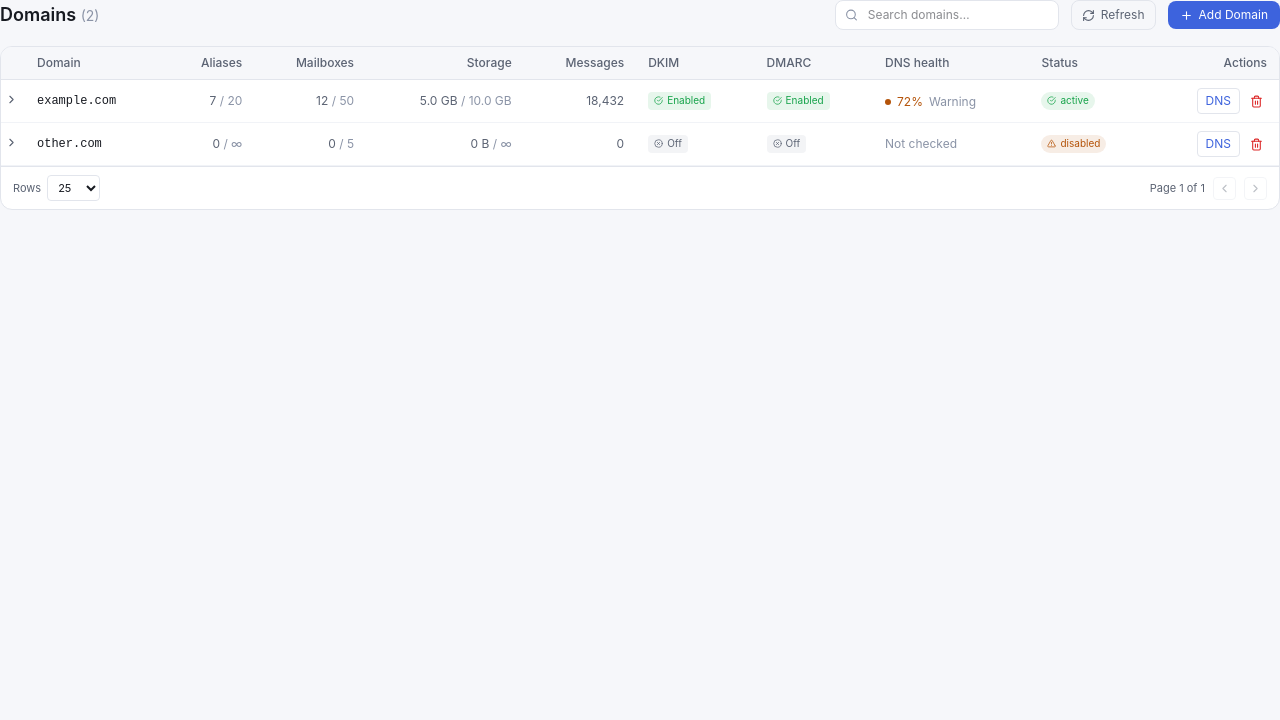
DNS records modal › shows the MTA-STS HTTPS policy row as unverified when no policy document was fetched
The image size is (1280, 720).
Expected: the text "example.com" is shown, [25,80,165,122]
What coordinates should you click on to do the following:
click the button "DNS" in the row of "example.com"
I would click on:
 (1218, 101)
Its box is [1197,88,1240,114].
(page scrolled)
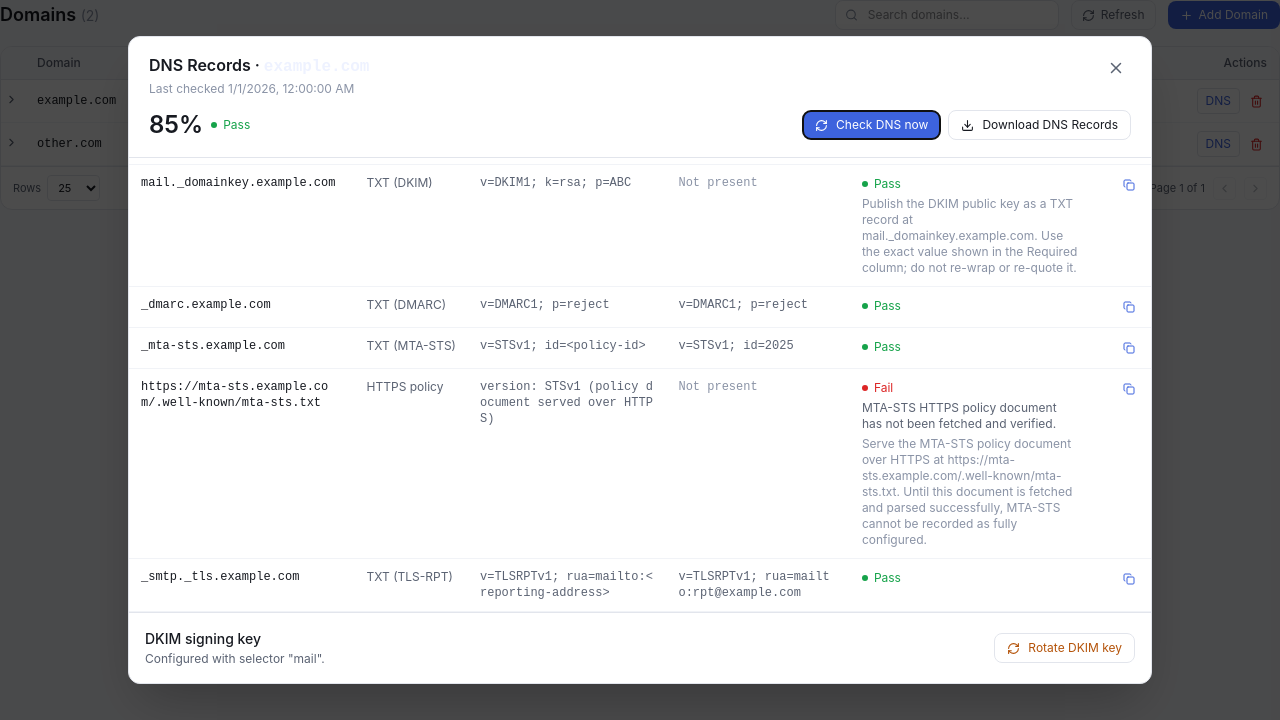
Expected: the dialog is shown
Expected: the table with test id "dns-records-table" is shown, [129,158,1151,612]
Expected: the row with test id "dns-row-mtasts-policy" is shown, [129,368,1151,558]
